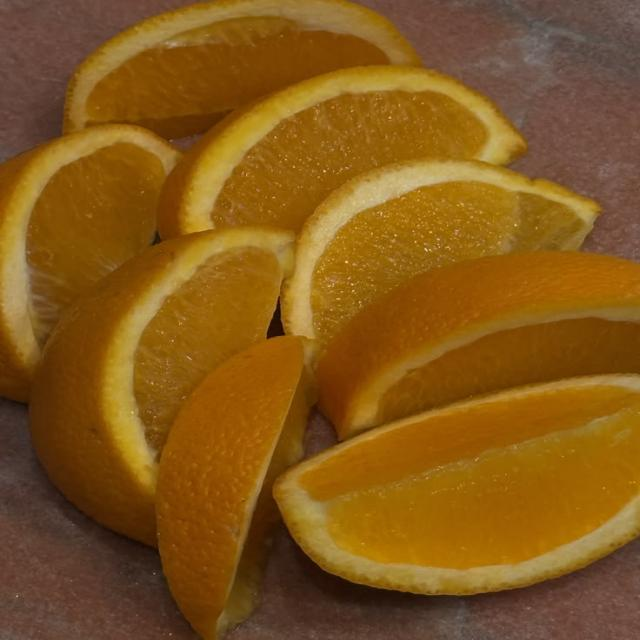orange: (30, 228, 292, 544), (274, 375, 639, 594), (159, 66, 526, 238), (281, 159, 599, 350), (318, 252, 639, 438), (0, 125, 181, 401), (64, 0, 420, 138), (157, 336, 310, 639)
